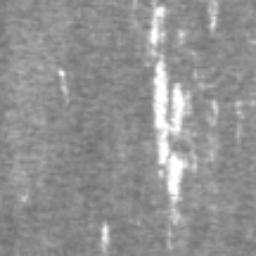White rust: (148, 2, 192, 225), (101, 222, 109, 251), (210, 8, 218, 31), (212, 100, 218, 115), (57, 69, 65, 80), (61, 85, 68, 93)
